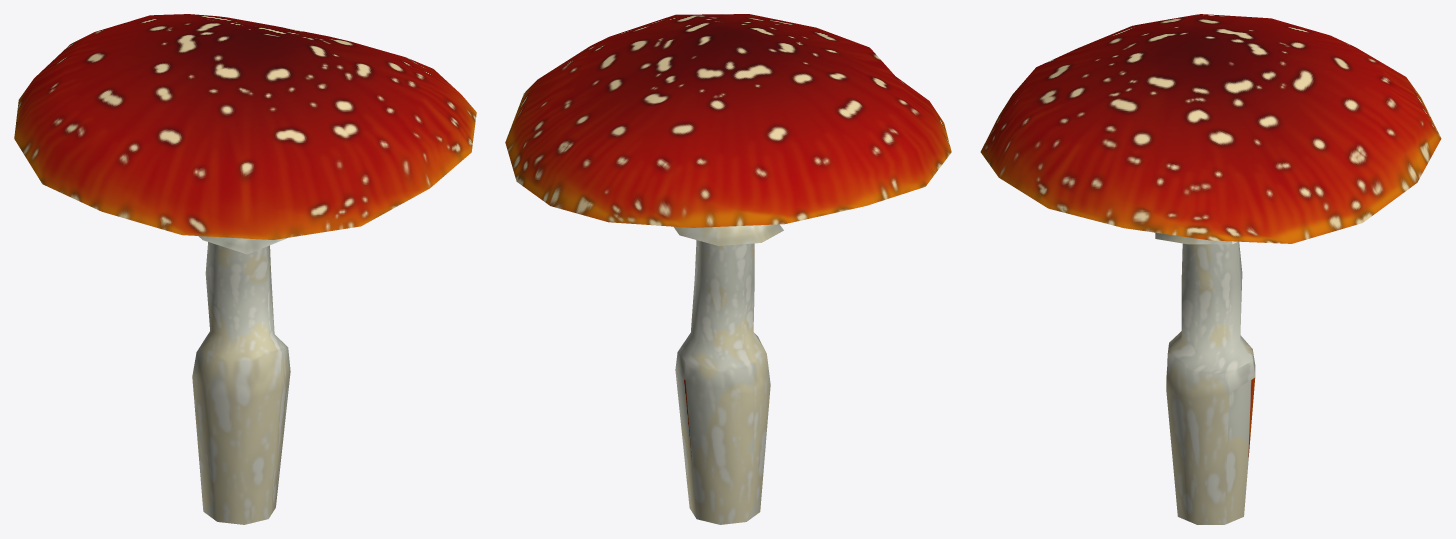
File: amanita_b.DAE
3 renders of one model, left to right at view 1: azimuth 30°, elevation 25°; view 2: azimuth 150°, elevation 25°; view 3: azimuth 270°, elevation 25°, orthographic. The views are drawn at different scales.
Visible parts, largest first — view 1: amanita_B; view 2: amanita_B; view 3: amanita_B.
Boxes of the visible parts, x1,y1,x2,y2 form: amanita_B: [14, 14, 476, 524]; amanita_B: [505, 14, 951, 524]; amanita_B: [980, 14, 1441, 524].
Size of the model in its own units: 0.8463 by 0.8453 by 0.953.
Materials: 1 (1 with a texture image).
